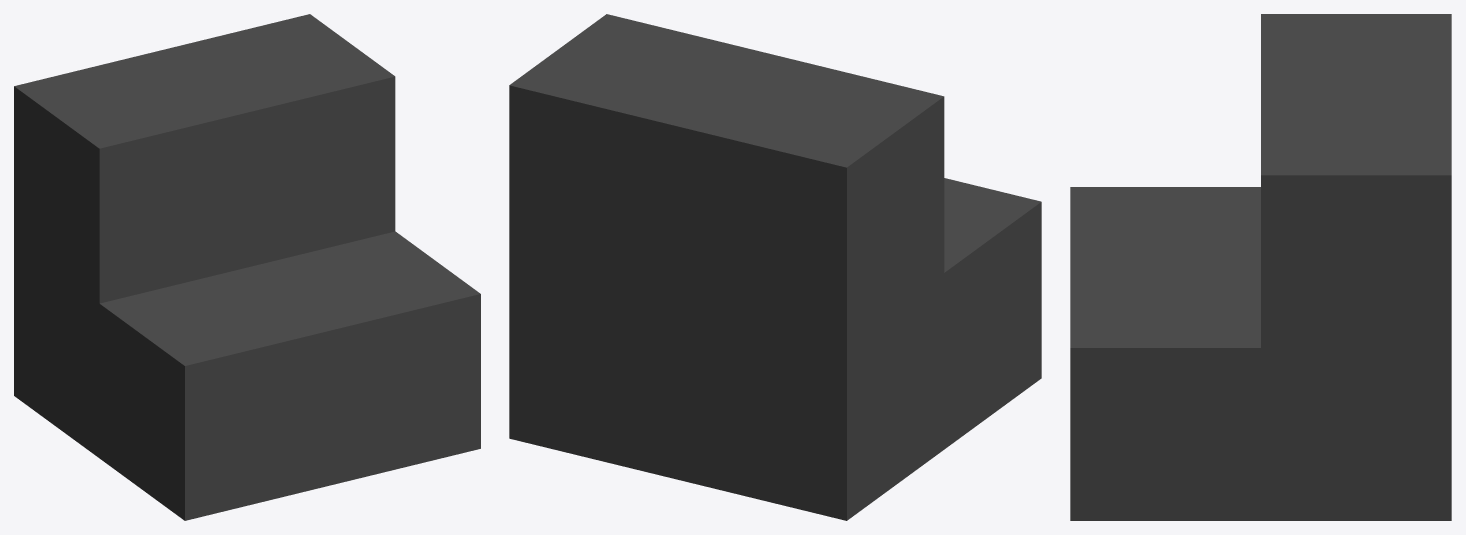
The model's file is Cat1Attack.obj.
3 renders of one model, left to right at view 1: azimuth 30°, elevation 25°; view 2: azimuth 150°, elevation 25°; view 3: azimuth 270°, elevation 25°, orthographic. The views are drawn at different scales.
Size of the model in its own units: 2 by 2 by 2.
